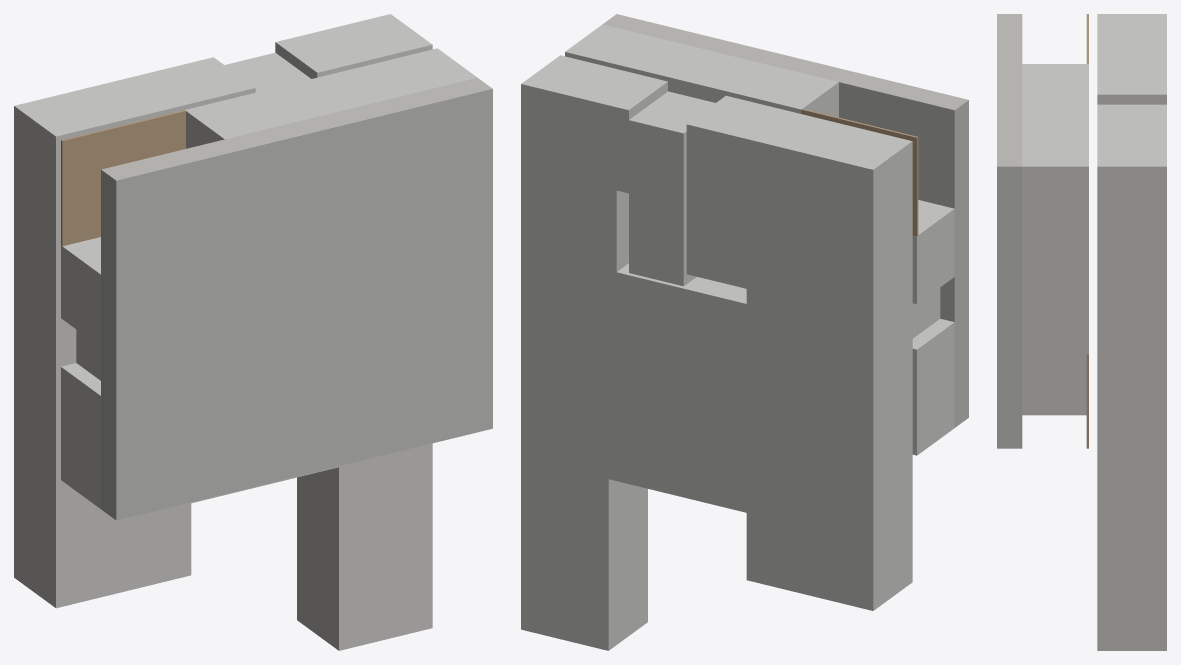
The model's file is 8220_hawthorne_from_plan.glb.
3 renders of one model, left to right at view 1: azimuth 30°, elevation 25°; view 2: azimuth 150°, elevation 25°; view 3: azimuth 270°, elevation 25°, orthographic. The views are drawn at different scales.
Visible parts, largest first — view 1: F2_roof, F1_GUEST_BEDROOM, F1_UTILITY_ROOM, F1_SUNROOM, F2_CANAL_TERRACE, F2_PRIMARY_BEDROOM, F1_MASTER_BR, F2_BEDROOM_2, F1_KITCHEN, F2_STUDY, F2_PRIMARY_BATH, F1_WIC (+1 smaller); view 2: F1_GUEST_BEDROOM, F1_SUNROOM, F1_LIVING_ROOM, F1_UTILITY_ROOM, F2_roof, F1_KITCHEN, F1_MASTER_BR, F1_WIC, F1_WORK_AREA, F2_PRIMARY_BEDROOM, F1_DINING_ROOM, F2_BEDROOM_2 (+4 smaller); view 3: F2_roof, F1_KITCHEN, F1_UTILITY_ROOM, F1_MASTER_BR, F2_PRIMARY_BATH, F1_SUNROOM, F1_WORK_AREA, F2_PRIMARY_BEDROOM, F2_WIC, F1_DINING_ROOM, F2_STAIR, F2_LAUNDRY_MECH (+2 smaller).
Part boxes in pixels (box(x1,y1,x2,y2)): F2_roof: box(101, 77, 492, 520); F1_GUEST_BEDROOM: box(14, 266, 191, 608); F1_UTILITY_ROOM: box(297, 476, 432, 650); F1_SUNROOM: box(14, 57, 255, 296); F2_CANAL_TERRACE: box(61, 110, 185, 246); F2_PRIMARY_BEDROOM: box(185, 68, 394, 148); F1_MASTER_BR: box(275, 14, 432, 78); F2_BEDROOM_2: box(61, 363, 100, 508); F1_KITCHEN: box(304, 443, 432, 501); F2_STUDY: box(61, 237, 100, 346); F2_PRIMARY_BATH: box(355, 48, 477, 97); F1_WIC: box(224, 52, 310, 92); F1_GUEST_BEDROOM: box(746, 289, 912, 610); F1_SUNROOM: box(686, 95, 912, 319); F1_LIVING_ROOM: box(608, 263, 746, 512); F1_UTILITY_ROOM: box(521, 487, 647, 650); F2_roof: box(603, 14, 968, 427); F1_KITCHEN: box(521, 324, 641, 511); F1_MASTER_BR: box(521, 55, 667, 193); F1_WIC: box(629, 91, 715, 286); F1_WORK_AREA: box(521, 167, 628, 279); F2_PRIMARY_BEDROOM: box(642, 43, 838, 117); F1_DINING_ROOM: box(521, 256, 628, 349); F2_BEDROOM_2: box(912, 318, 954, 455); F2_roof: box(997, 14, 1022, 448); F1_KITCHEN: box(1097, 379, 1166, 527); F1_UTILITY_ROOM: box(1097, 527, 1166, 650); F1_MASTER_BR: box(1097, 120, 1166, 240); F2_PRIMARY_BATH: box(1022, 133, 1088, 247); F1_SUNROOM: box(1097, 14, 1166, 104); F1_WORK_AREA: box(1097, 240, 1166, 319); F2_PRIMARY_BEDROOM: box(1022, 64, 1088, 132); F2_WIC: box(1022, 247, 1088, 314); F1_DINING_ROOM: box(1097, 319, 1166, 379); F2_STAIR: box(1022, 354, 1086, 415); F2_LAUNDRY_MECH: box(1022, 314, 1088, 354).
Bounding box in the file's own units: 48.7 × 72.1 × 22.9.
